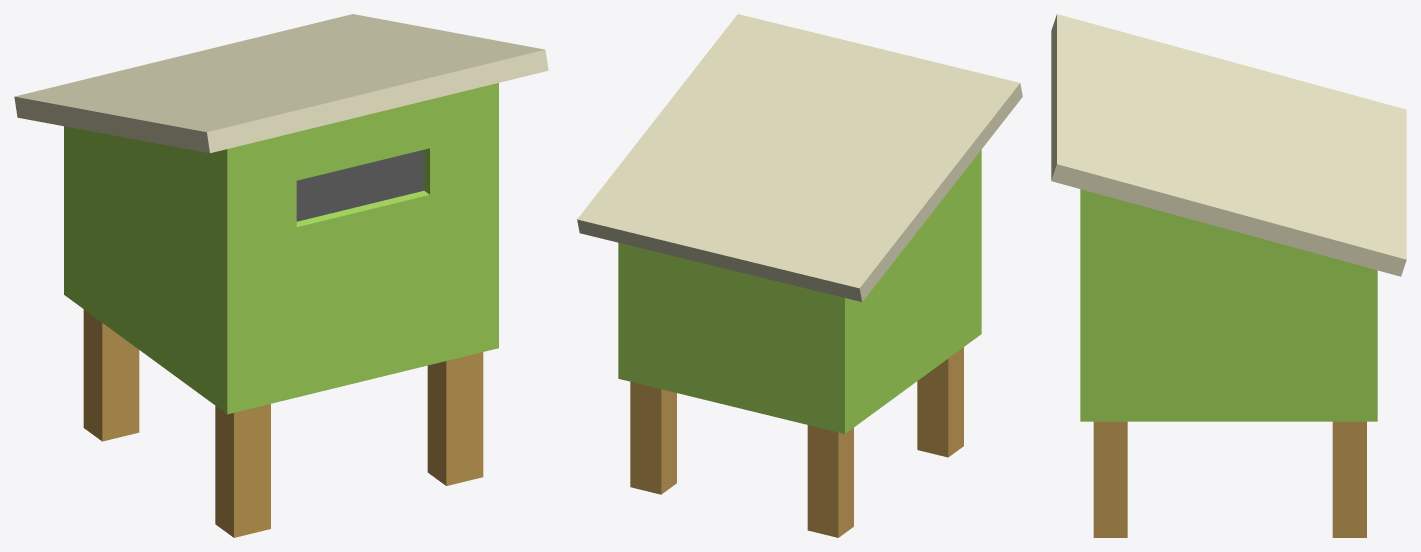
The model's file is hive_3.fbx.
3 renders of one model, left to right at view 1: azimuth 30°, elevation 25°; view 2: azimuth 150°, elevation 25°; view 3: azimuth 270°, elevation 25°, orthographic. The views are drawn at different scales.
Visible parts, largest first — view 1: Cube_12; view 2: Cube_12; view 3: Cube_12.
Boxes of the visible parts, box(x1,y1,x2,y2) form: Cube_12: box(14, 14, 548, 537); Cube_12: box(577, 14, 1022, 537); Cube_12: box(1051, 14, 1406, 537).
Size of the model in its own units: 82.26 by 100 by 82.34.
